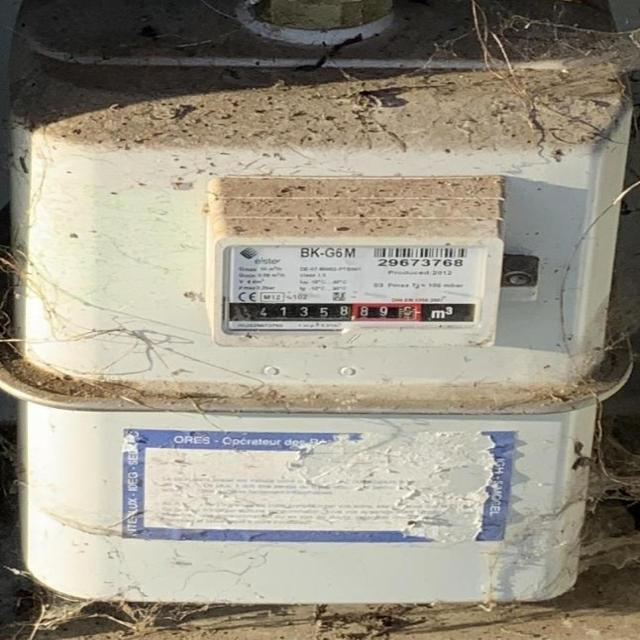gaz_meter: (222, 242, 481, 331)
indication: (228, 301, 422, 324)
